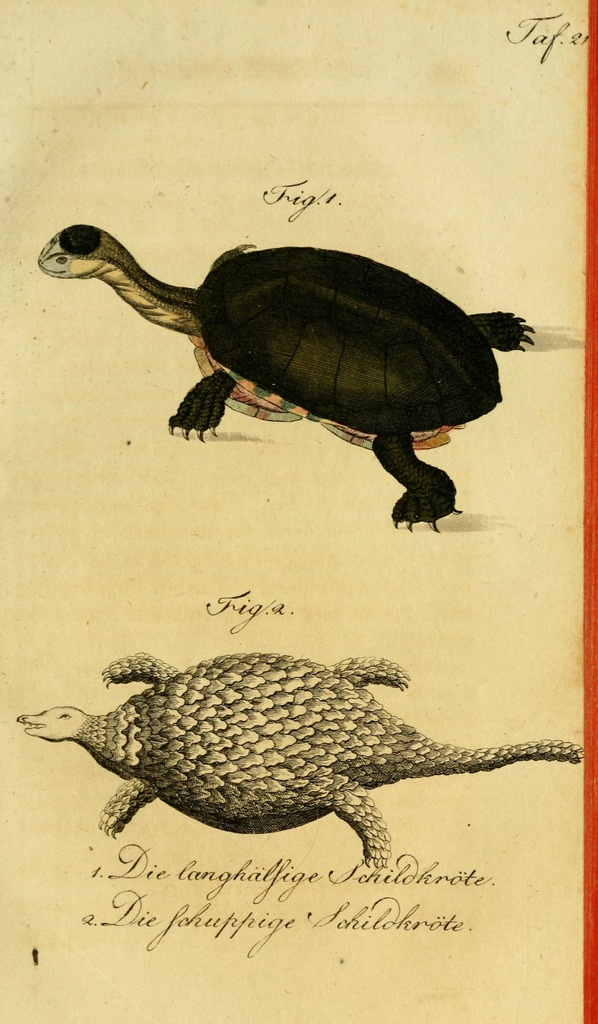Sea turtles: (38, 219, 540, 531), (12, 649, 581, 868)
